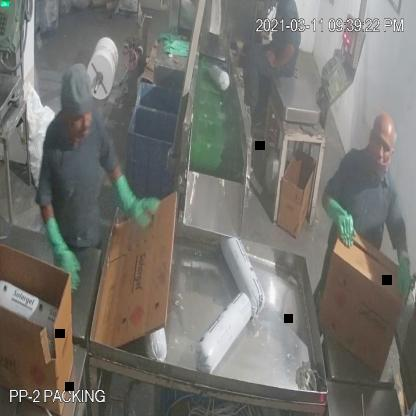glove: (109, 168, 167, 240), (40, 214, 86, 300), (323, 192, 357, 252), (394, 247, 414, 310)
